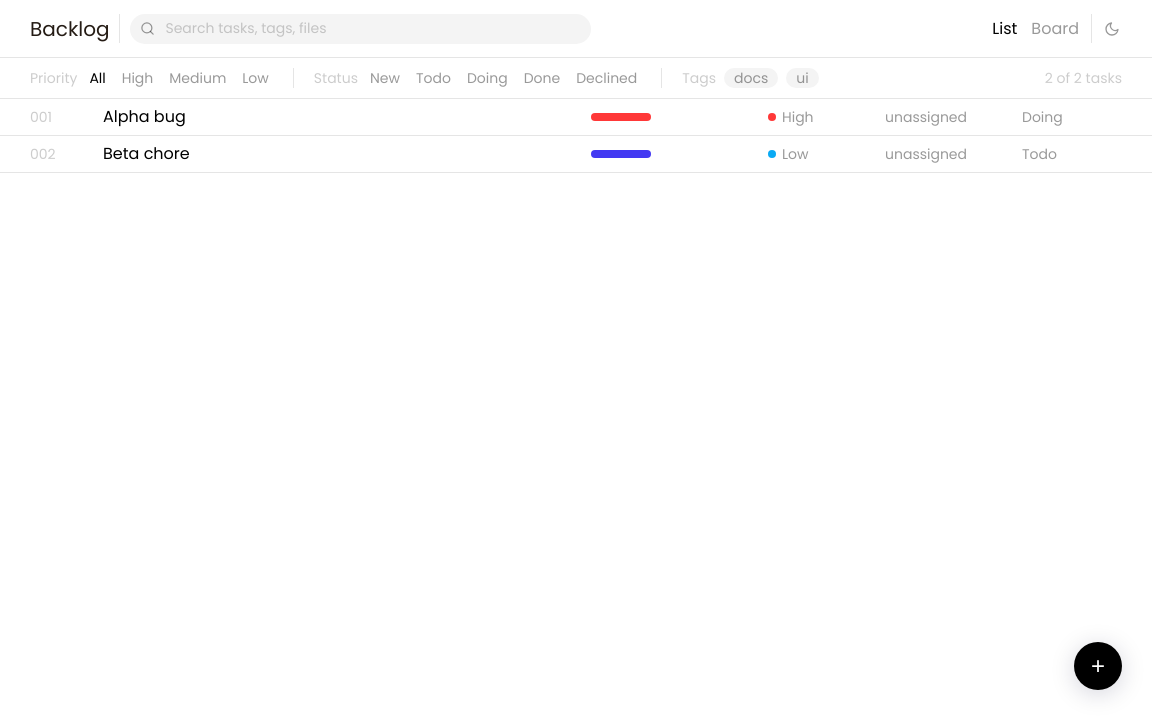
Test: App › clears the search text from the pill's clear control
The image size is (1152, 720).
Expected: the text "Alpha bug" is shown, [103,105,186,128]
Type "beta" into the field with placeholder "Search tasks, tags, files".
click(372, 28); type("beta")  # box [164,17,581,40]
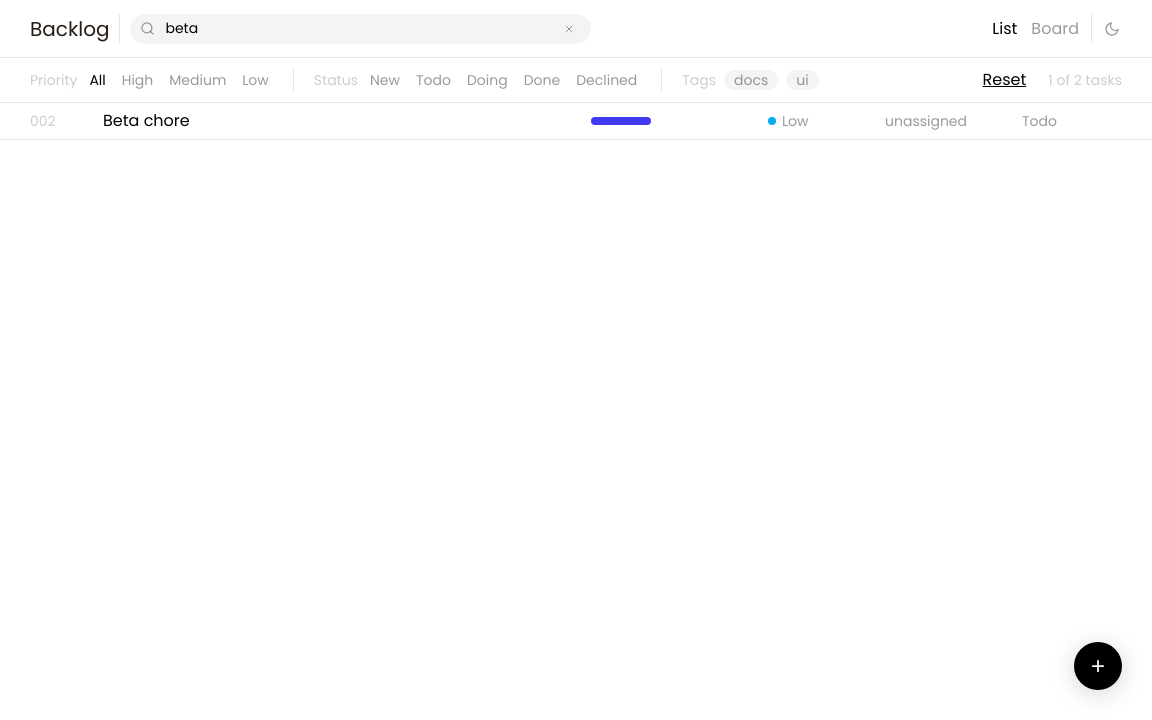
Expected: the button "Alpha bug" is gone
Click the button named "Clear search".
click(569, 28)  # box [557,22,581,36]
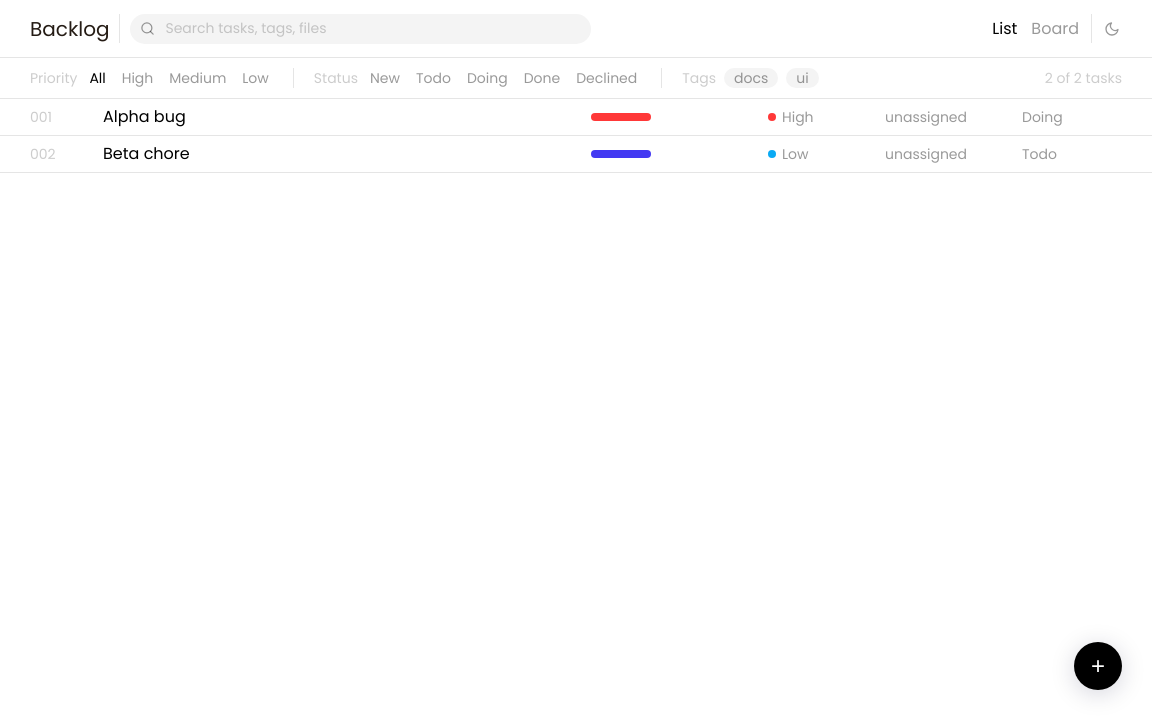
Expected: the field with placeholder "Search tasks, tags, files" is empty, [164,17,581,40]
Expected: the text "Alpha bug" is shown, [103,105,186,128]
